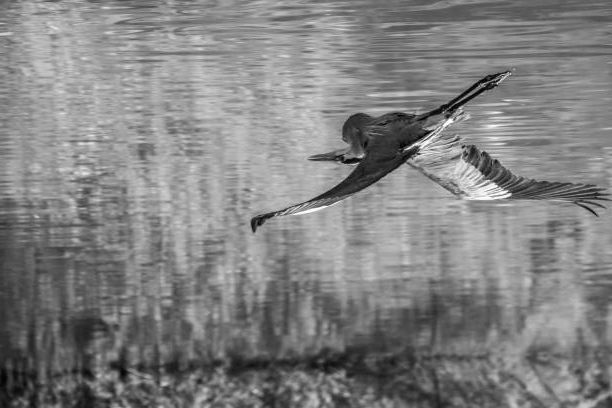Bird: (249, 64, 612, 236)
